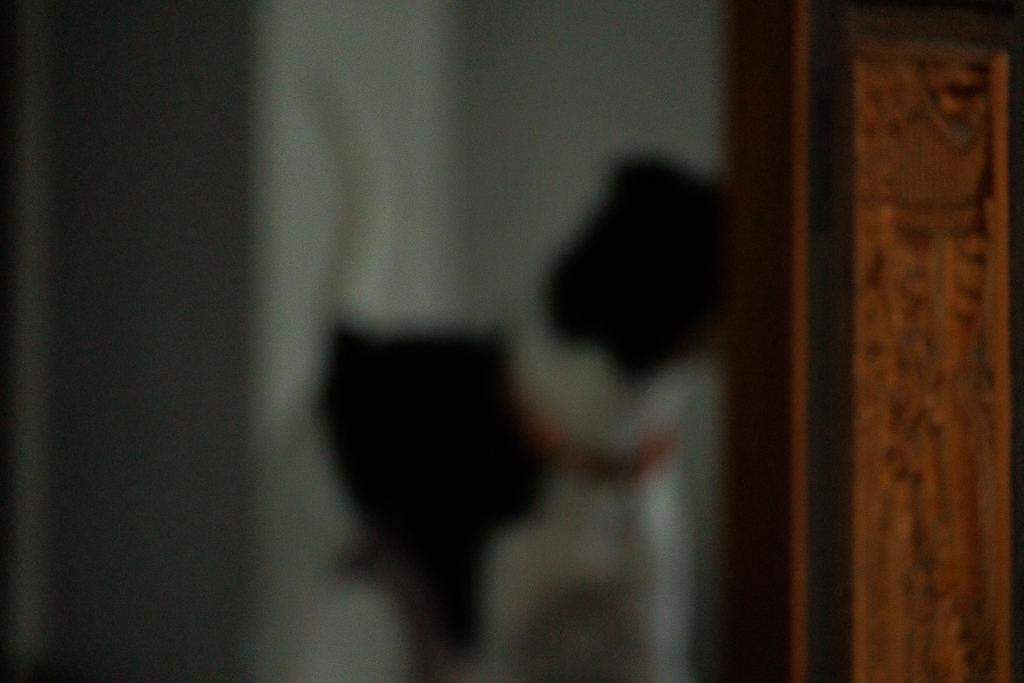Dog: (225, 46, 757, 683)
